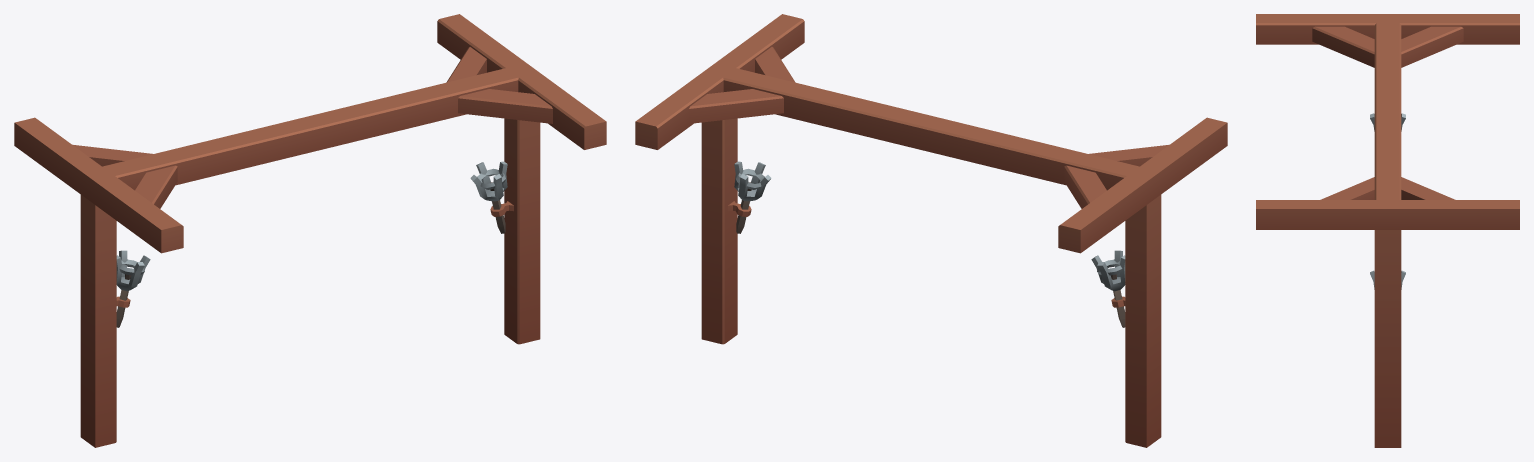
Rendered from scaffold_pillars_connected_torch.glb.
The picture shows the model from 3 angles, left to right: view 1: azimuth 30°, elevation 25°; view 2: azimuth 150°, elevation 25°; view 3: azimuth 270°, elevation 25°; orthographic projection. The views are drawn at different scales.
Visible parts, largest first — view 1: scaffold_pillars_connected_torch; view 2: scaffold_pillars_connected_torch; view 3: scaffold_pillars_connected_torch.
Boxes of the visible parts, box(x1,y1,x2,y2) form: scaffold_pillars_connected_torch: box(14, 14, 606, 447); scaffold_pillars_connected_torch: box(635, 14, 1227, 447); scaffold_pillars_connected_torch: box(1256, 14, 1519, 447).
Bounding box in the file's own units: 7 × 4 × 4.
Materials: 1 (1 with a texture image).
